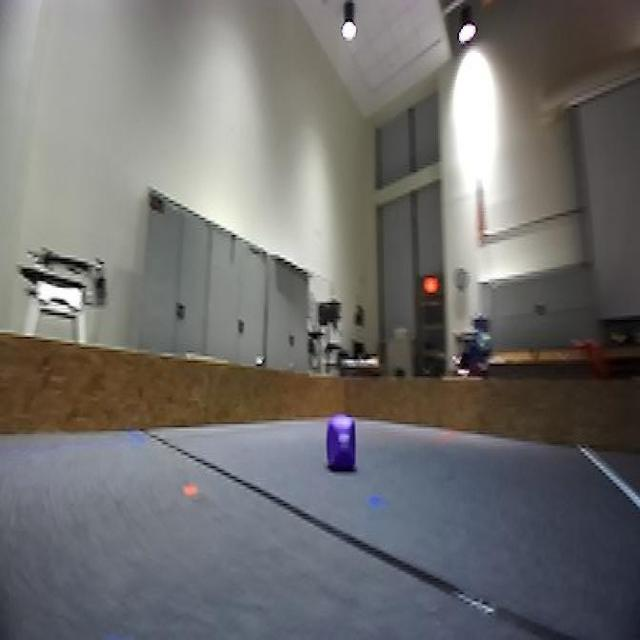frc_cube: (325, 416, 360, 474)
